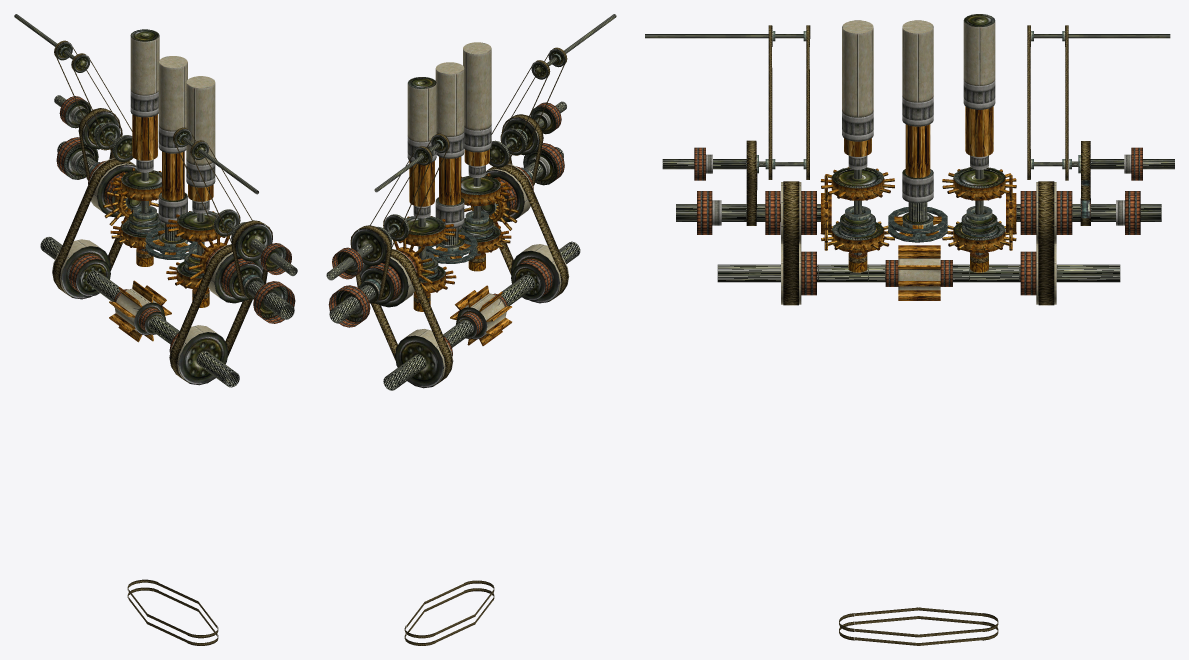
The model's file is DWARF_PALACE_GEARS_STATIC.fbx.
3 views of the same model, side by side, from view 1: azimuth 30°, elevation 25°; view 2: azimuth 150°, elevation 25°; view 3: azimuth 270°, elevation 25° (orthographic). The views are drawn at different scales.
Visible parts, largest first — view 1: DWARF_PALACE_GEARS_STATIC; view 2: DWARF_PALACE_GEARS_STATIC; view 3: DWARF_PALACE_GEARS_STATIC.
Part boxes in pixels (x1=…): DWARF_PALACE_GEARS_STATIC: x1=14, y1=14, x2=297, y2=645; DWARF_PALACE_GEARS_STATIC: x1=326, y1=14, x2=616, y2=645; DWARF_PALACE_GEARS_STATIC: x1=645, y1=14, x2=1174, y2=645.
Size of the model in its own units: 104354 by 617012 by 484014.
18 materials, 18 textured.
